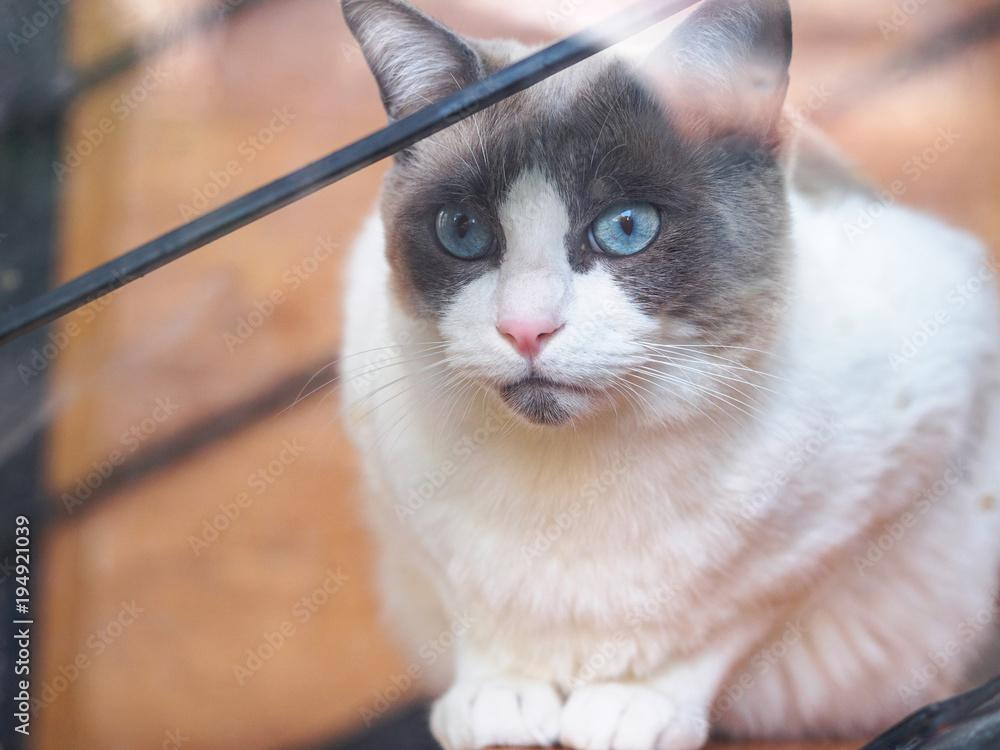ragdoll: (340, 1, 807, 439)
